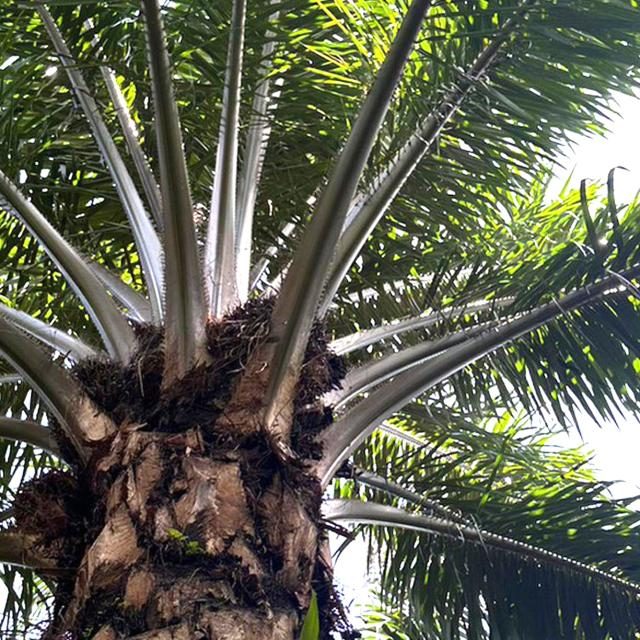ripe: (214, 288, 338, 397), (2, 459, 88, 532), (68, 351, 142, 418)
